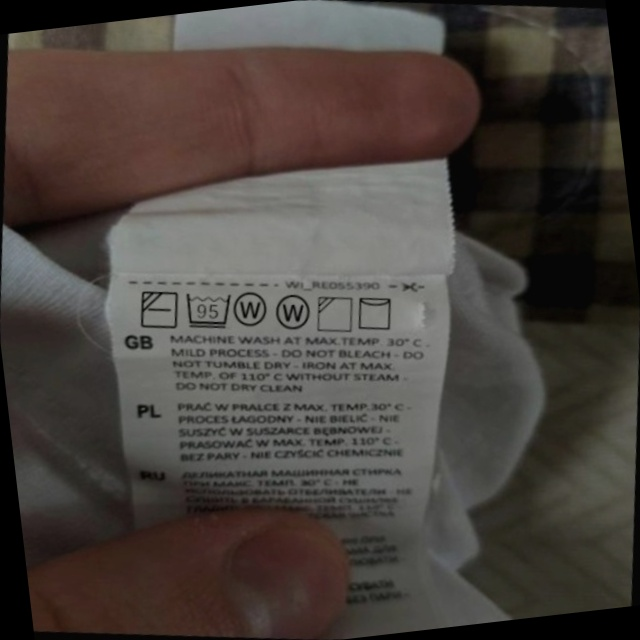95C: (179, 284, 237, 335)
dry_flat_in_shade: (134, 283, 184, 335)
line_dry: (351, 288, 400, 337)
shade_dry: (311, 289, 359, 339)
wet_clean: (229, 283, 275, 333), (270, 288, 316, 337)
